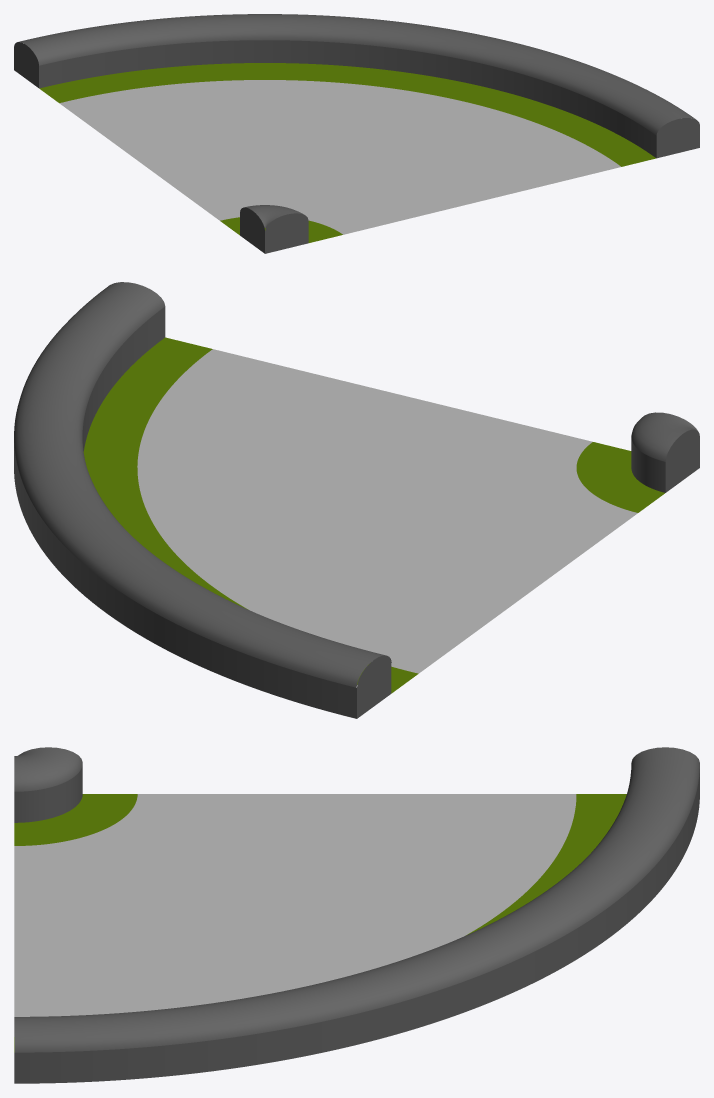
File: corner1x.gltf
3 views of the same model, one above another, from view 1: azimuth 30°, elevation 25°; view 2: azimuth 150°, elevation 25°; view 3: azimuth 270°, elevation 25° (orthographic). The views are drawn at different scales.
Parts seen in each view (by area): view 1: $ColladaAutoName$_0; view 2: $ColladaAutoName$_0; view 3: $ColladaAutoName$_0.
Part boxes in pixels (box(x1,y1,x2,y2)): $ColladaAutoName$_0: box(14, 14, 699, 253); $ColladaAutoName$_0: box(14, 282, 699, 718); $ColladaAutoName$_0: box(14, 747, 699, 1083).
Bounding box in the file's own units: 1 × 0.075 × 1.
